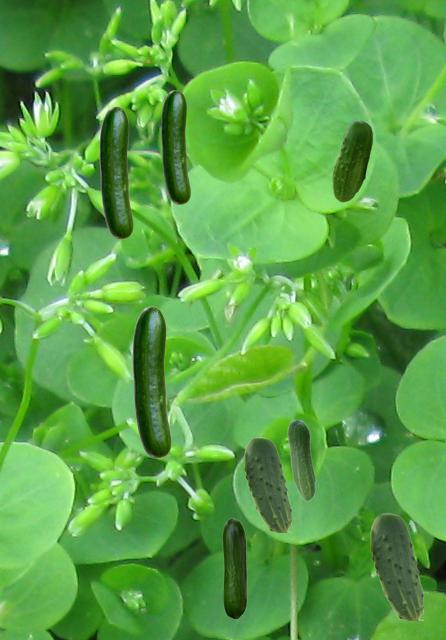cucumber: (132, 306, 170, 457), (370, 513, 422, 619), (99, 106, 132, 238), (244, 437, 290, 531), (161, 90, 189, 203), (332, 120, 371, 201), (222, 518, 246, 618), (287, 419, 315, 500)
